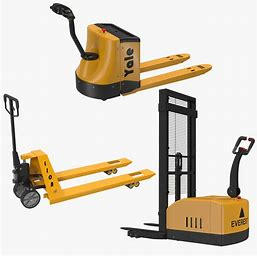Pallet Jack: (119, 89, 257, 248), (2, 92, 156, 210), (48, 1, 214, 101)
